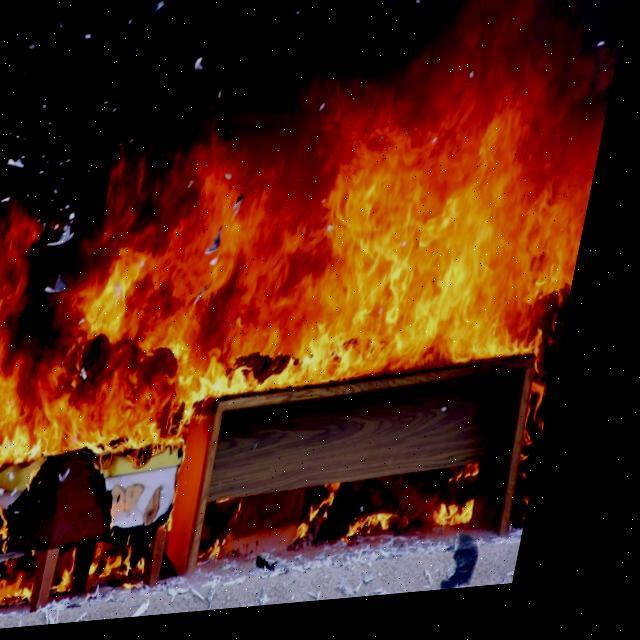Fire: (0, 17, 629, 621)
